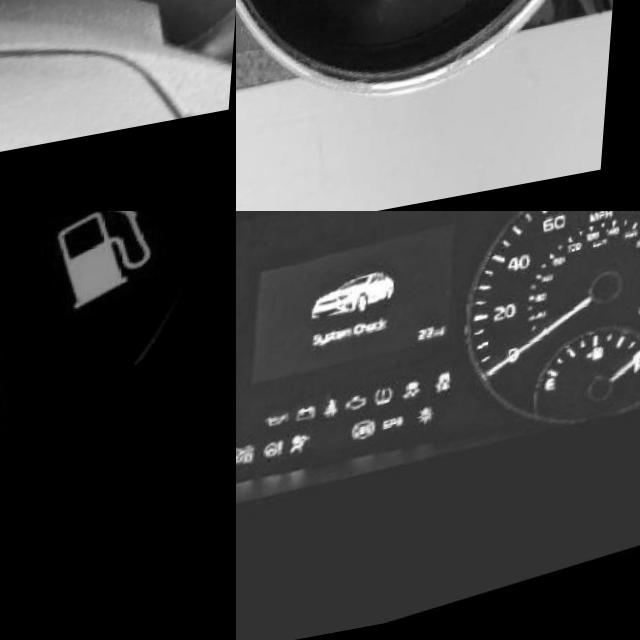Low fuel level: (603, 357, 616, 372)
